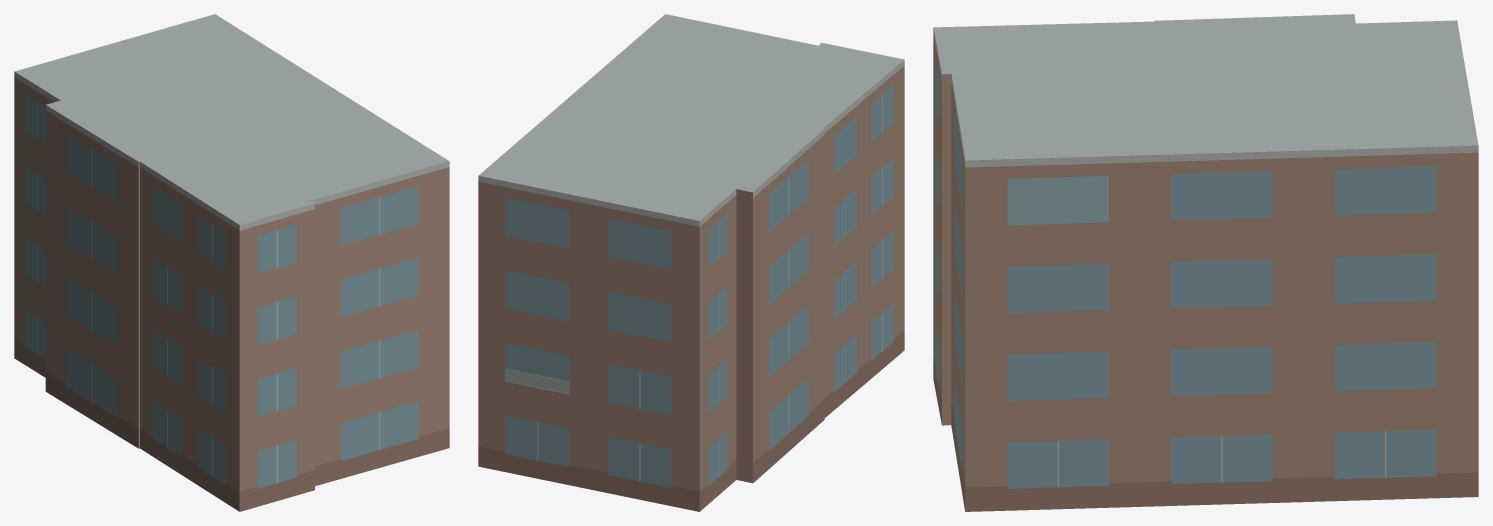
Rendered from survey-upis-33042911.glb.
3 views of the same model, side by side, from view 1: azimuth 30°, elevation 25°; view 2: azimuth 150°, elevation 25°; view 3: azimuth 270°, elevation 25° (orthographic). The views are drawn at different scales.
Parts seen in each view (by area): view 1: survey-upis-33042911.tmp; view 2: survey-upis-33042911.tmp; view 3: survey-upis-33042911.tmp.
Boxes of the visible parts, x1,y1,x2,y2 form: survey-upis-33042911.tmp: (14,14,449,511); survey-upis-33042911.tmp: (478,14,904,511); survey-upis-33042911.tmp: (933,14,1478,511).
Bounding box in the file's own units: 10.92 × 12.2 × 17.17.
